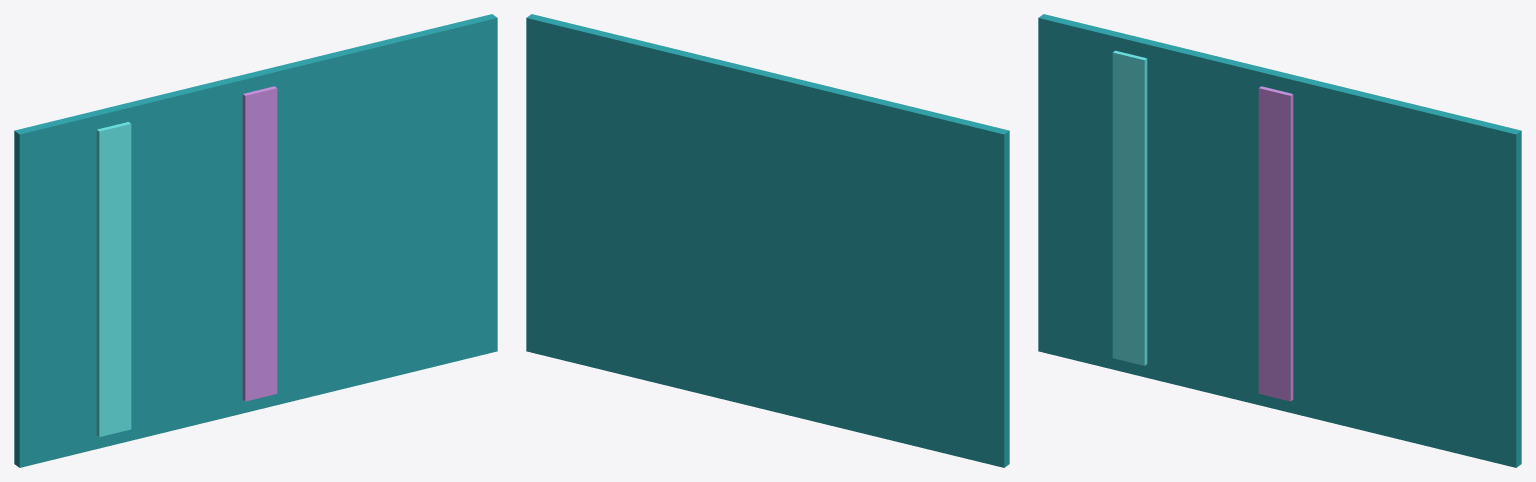
Rendered from area-rug.glb.
3 views of the same model, side by side, from view 1: azimuth 30°, elevation 25°; view 2: azimuth 150°, elevation 25°; view 3: azimuth 330°, elevation 25° (orthographic).
Parts seen in each view (by area): view 1: world; view 2: world; view 3: world.
Part boxes in pixels (x1,y1,x2,y2): world: (14,14,497,467); world: (526,14,1009,467); world: (1038,14,1521,467).
Bounding box in the file's own units: 1.8 × 1.2 × 0.052.
